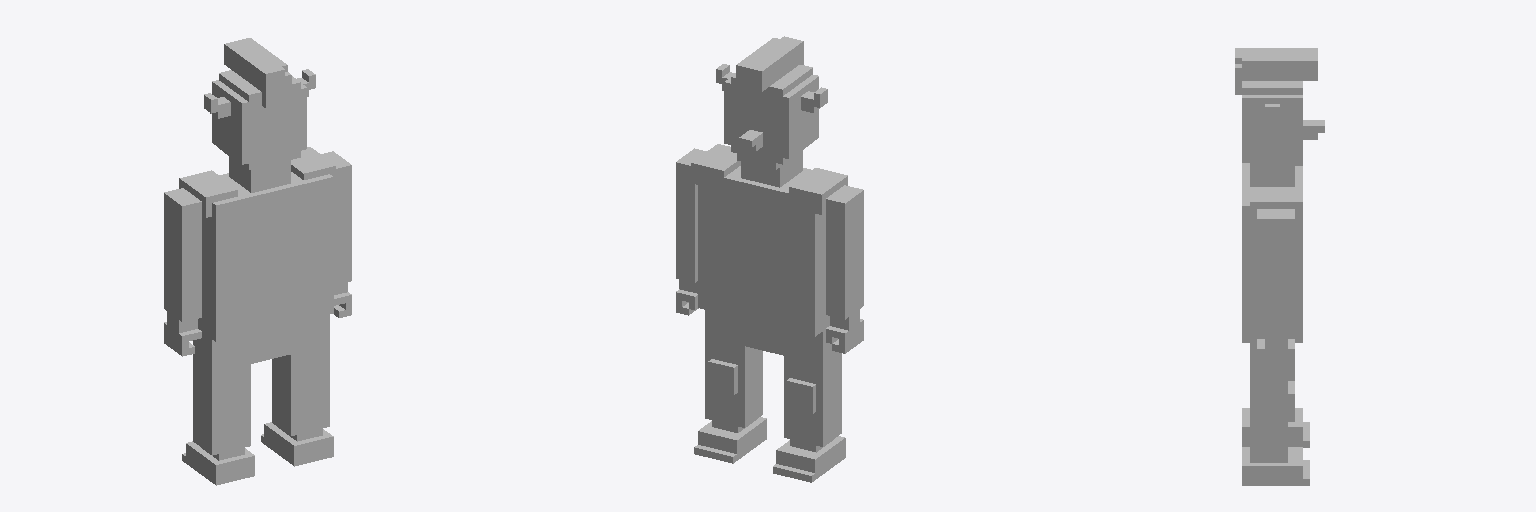
File: goblin.obj
3 views of the same model, side by side, from view 1: azimuth 30°, elevation 25°; view 2: azimuth 150°, elevation 25°; view 3: azimuth 270°, elevation 25° (orthographic).
Parts seen in each view (by area): view 1: object 1; view 2: object 1; view 3: object 1.
Part boxes in pixels (bbox=[...]): object 1: bbox=[164, 38, 351, 485]; object 1: bbox=[676, 36, 863, 482]; object 1: bbox=[1235, 48, 1324, 485].
Size of the model in its own units: 2.6 by 5.9 by 1.2.